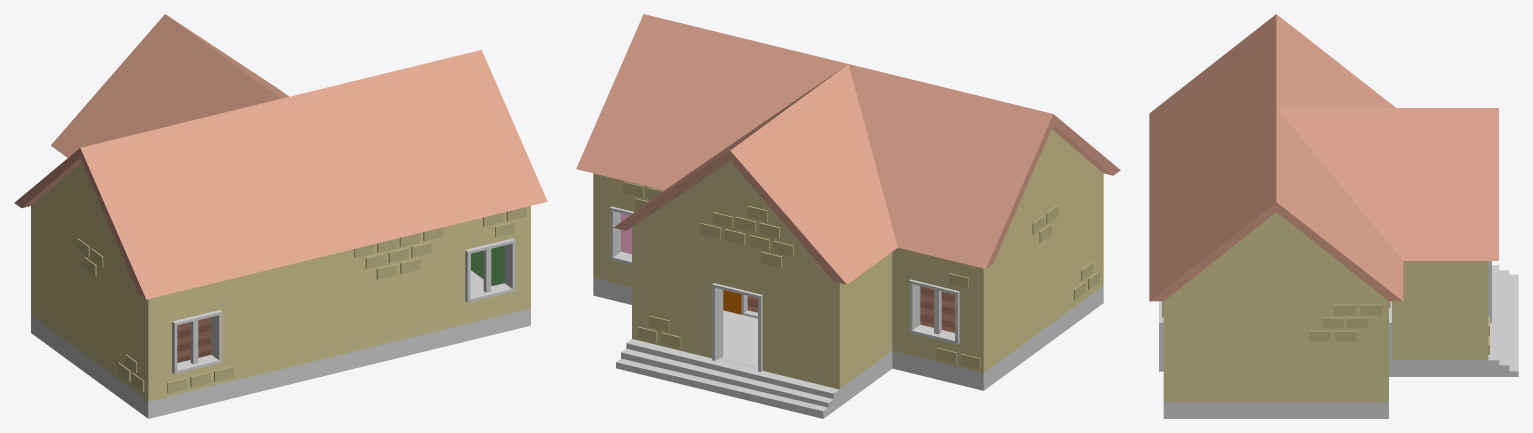
Rendered from House6.fbx.
3 views of the same model, side by side, from view 1: azimuth 30°, elevation 25°; view 2: azimuth 150°, elevation 25°; view 3: azimuth 270°, elevation 25° (orthographic). The views are drawn at different scales.
Visible parts, largest first — view 1: House6; view 2: House6; view 3: House6.
Boxes of the visible parts, box(x1,y1,x2,y2) form: House6: box(14, 14, 547, 418); House6: box(576, 14, 1120, 418); House6: box(1149, 14, 1518, 418).
Bounding box in the file's own units: 12.32 × 10.22 × 6.76.
